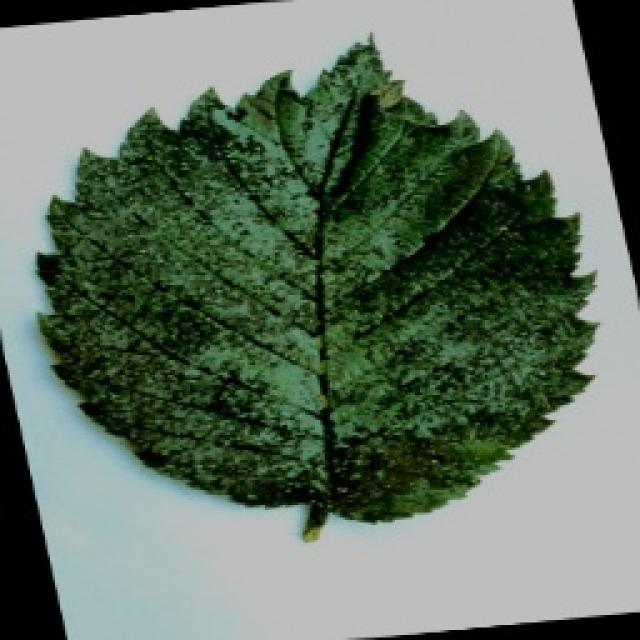Sooty Mold: (32, 30, 600, 540)
